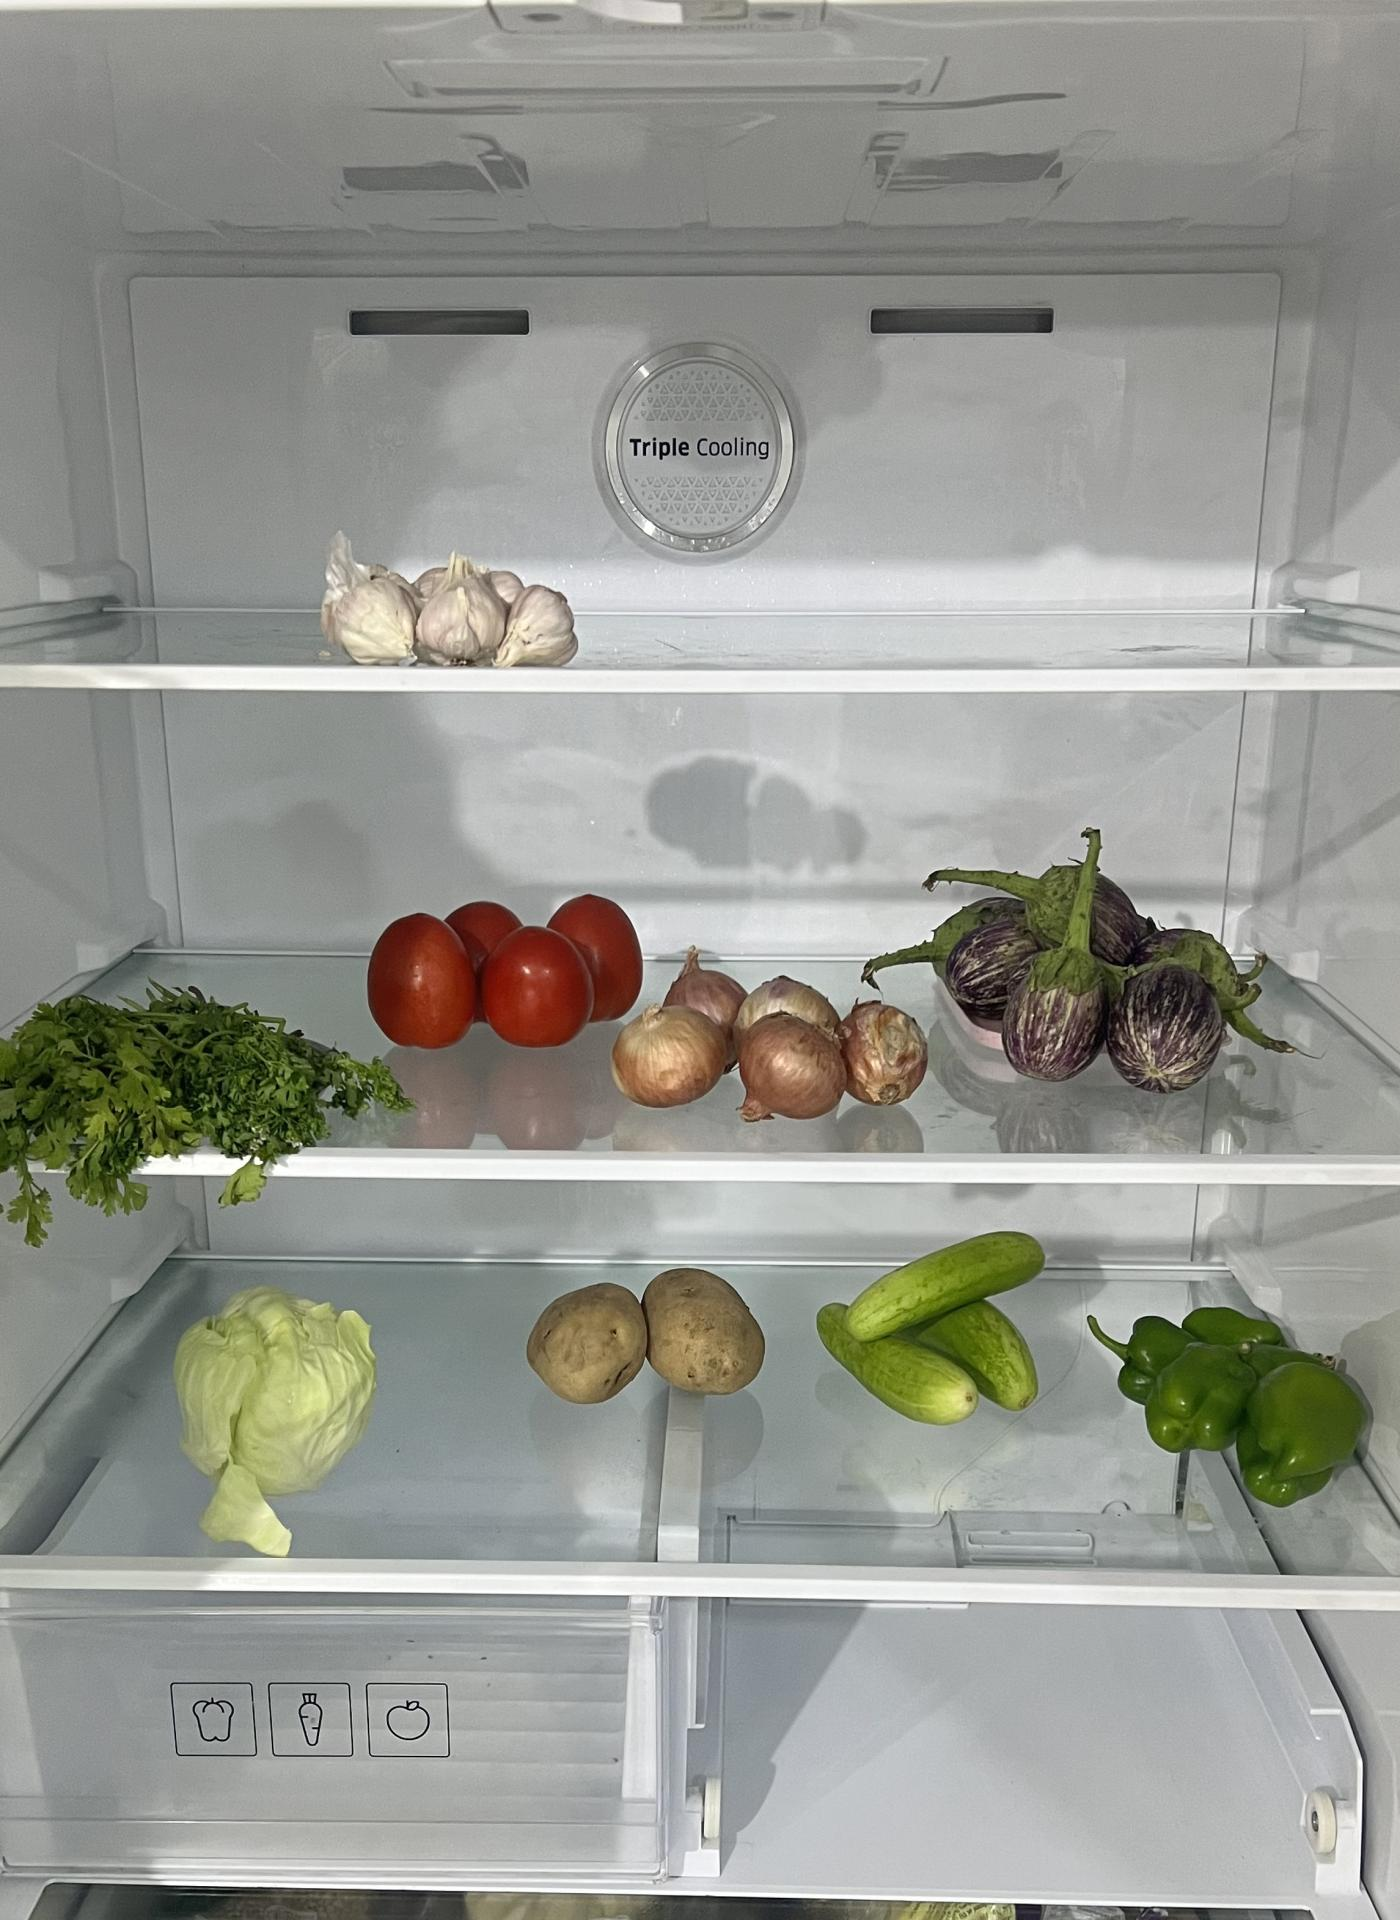brinjal: (936, 851, 1235, 1069)
cabbage: (177, 1282, 379, 1488)
capsicum: (1100, 1312, 1372, 1510)
coriander: (0, 987, 395, 1185)
cucumber: (811, 1231, 1044, 1428)
garlic: (319, 538, 581, 669)
onion: (617, 959, 933, 1117)
potato: (525, 1263, 768, 1398)
tomato: (368, 900, 644, 1057)
